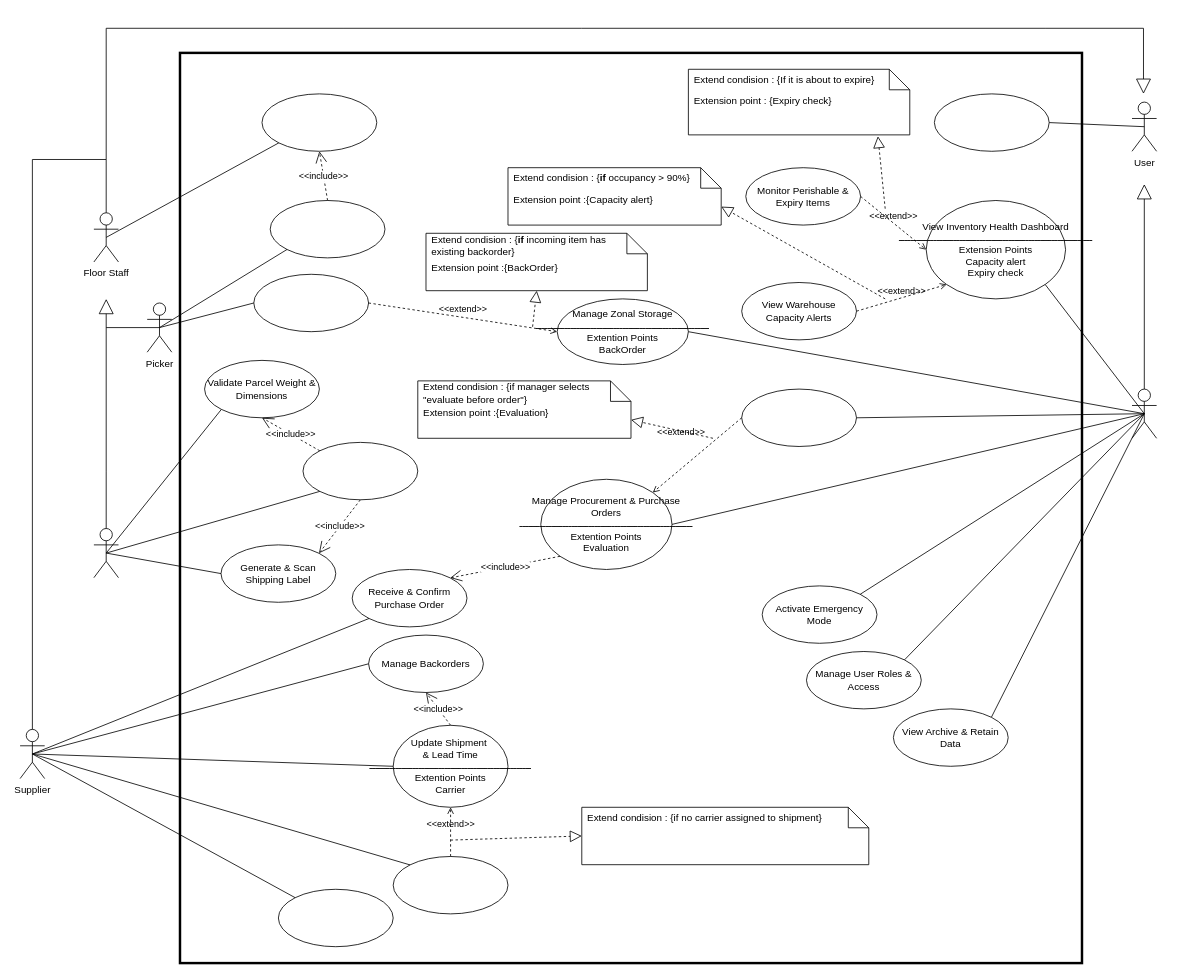
Image size: 1204x978. Some labels were removed from this diagram. The shapes that lost their labels are listed below. From the top down, each one's centre as x and y in pixels, then its label:
At (319,122): "Track Order Fulfillment Status".
At (991,122): "Login".
At (327,229): "Perform Batch Picking".
At (311,302): "Handle Cross-Docking".
At (798,417): "View Supplier Performance & Analytics".
At (1144,413): "Warehouse Manager".
At (360,471): "Pack & Sort Orders".
At (105,553): "Packer".
At (725,835): "Extension point :{Carrier}".
At (450,885): "Select Shipping Carrier".
At (335,917): "Undergo Performance Audit".
